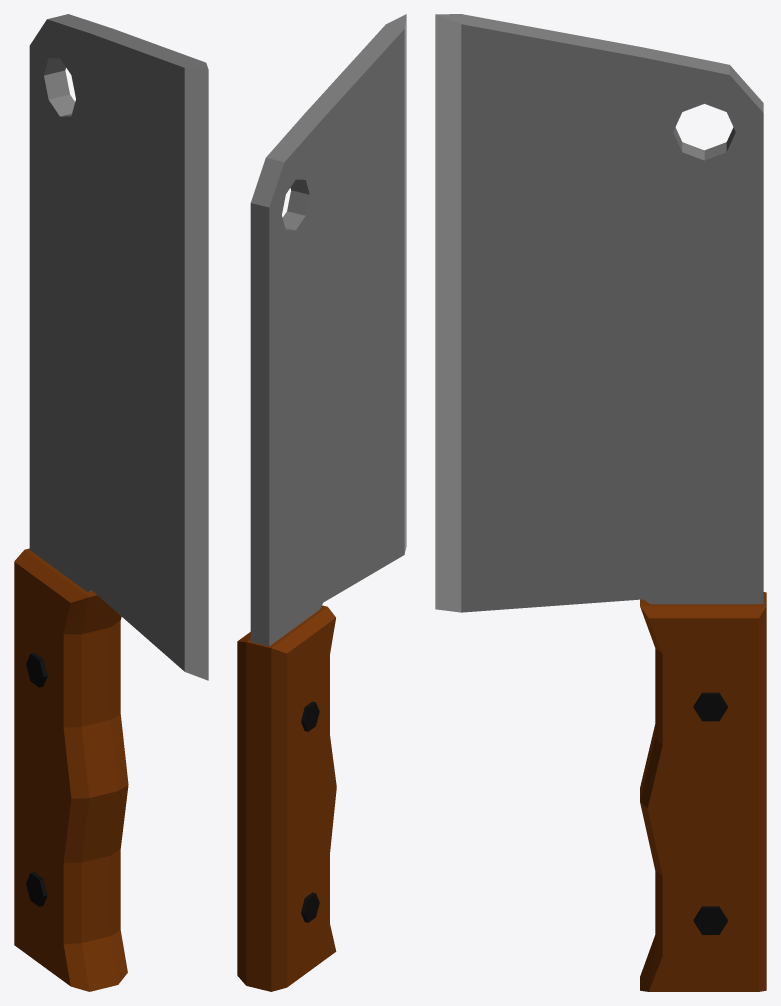
The model's file is Cleaver.obj.
3 renders of one model, left to right at view 1: azimuth 30°, elevation 25°; view 2: azimuth 150°, elevation 25°; view 3: azimuth 270°, elevation 25°, orthographic. The views are drawn at different scales.
Visible parts, largest first — view 1: Cleaver_Plane; view 2: Cleaver_Plane; view 3: Cleaver_Plane.
Boxes of the visible parts, box(x1,y1,x2,y2) form: Cleaver_Plane: box(14, 14, 208, 991); Cleaver_Plane: box(237, 14, 406, 991); Cleaver_Plane: box(435, 14, 766, 991).
Size of the model in its own units: 0.0236 by 0.3441 by 0.1065.
